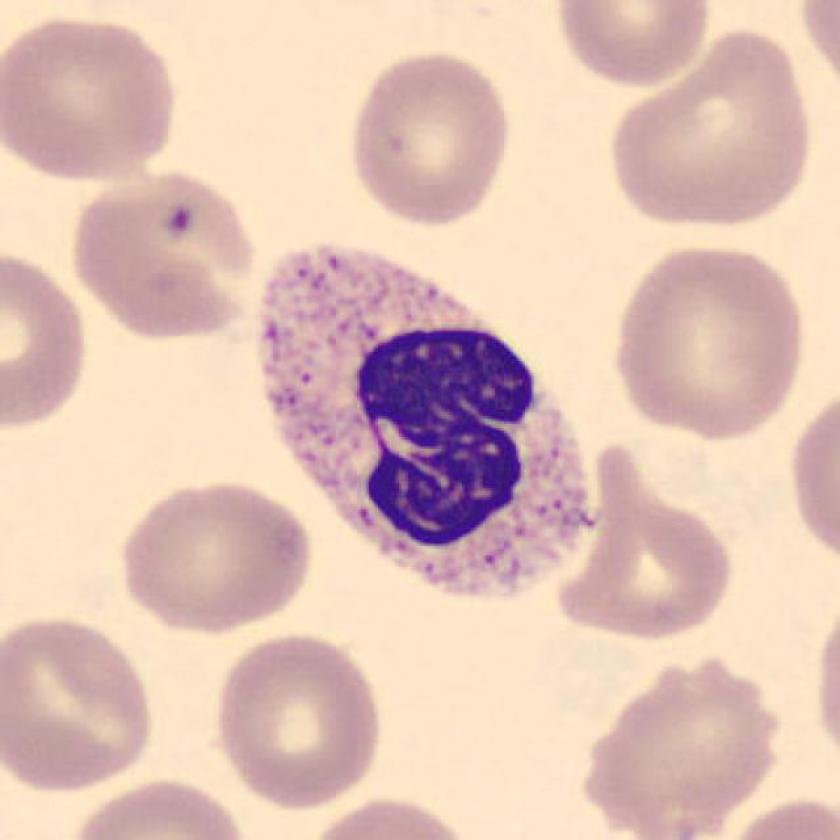neutrophil: (262, 246, 592, 601)
